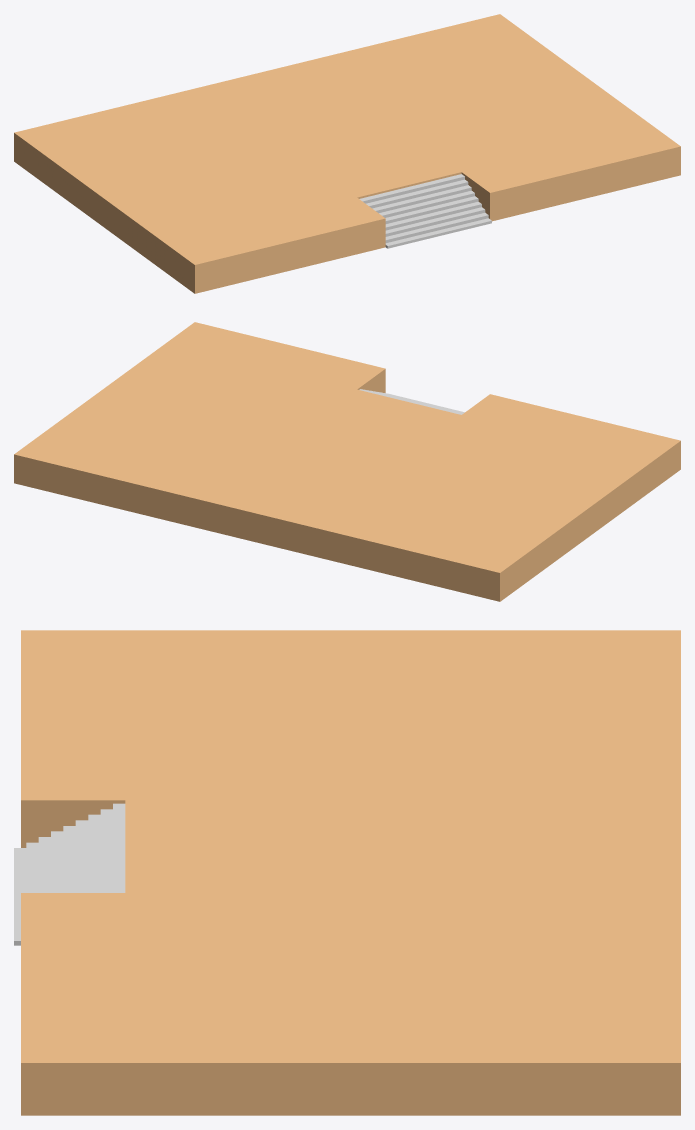
File: step up.fbx
3 views of the same model, one above another, from view 1: azimuth 30°, elevation 25°; view 2: azimuth 150°, elevation 25°; view 3: azimuth 270°, elevation 25° (orthographic). The views are drawn at different scales.
Visible parts, largest first — view 1: Cube; view 2: Cube; view 3: Cube.
Part boxes in pixels (left/top/right/bottom): Cube: left=14, top=14, right=680, bottom=293; Cube: left=14, top=322, right=680, bottom=601; Cube: left=14, top=630, right=680, bottom=1115.
Bounding box in the file's own units: 310 × 17.62 × 202.
